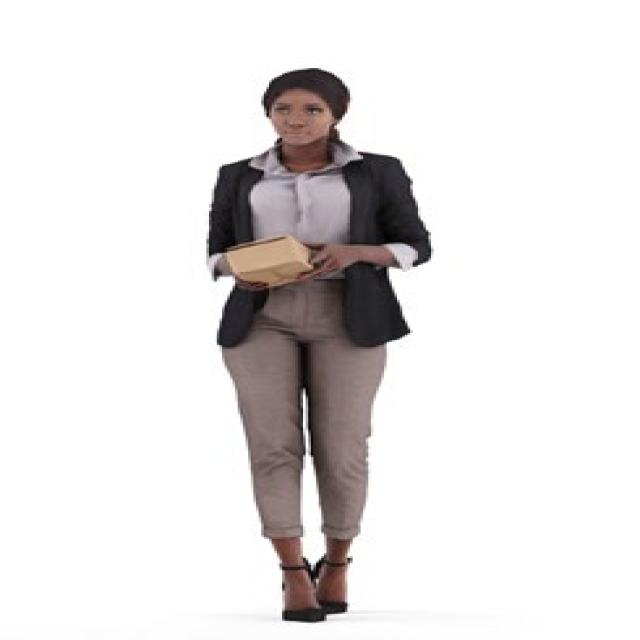standing: (201, 67, 437, 629)
